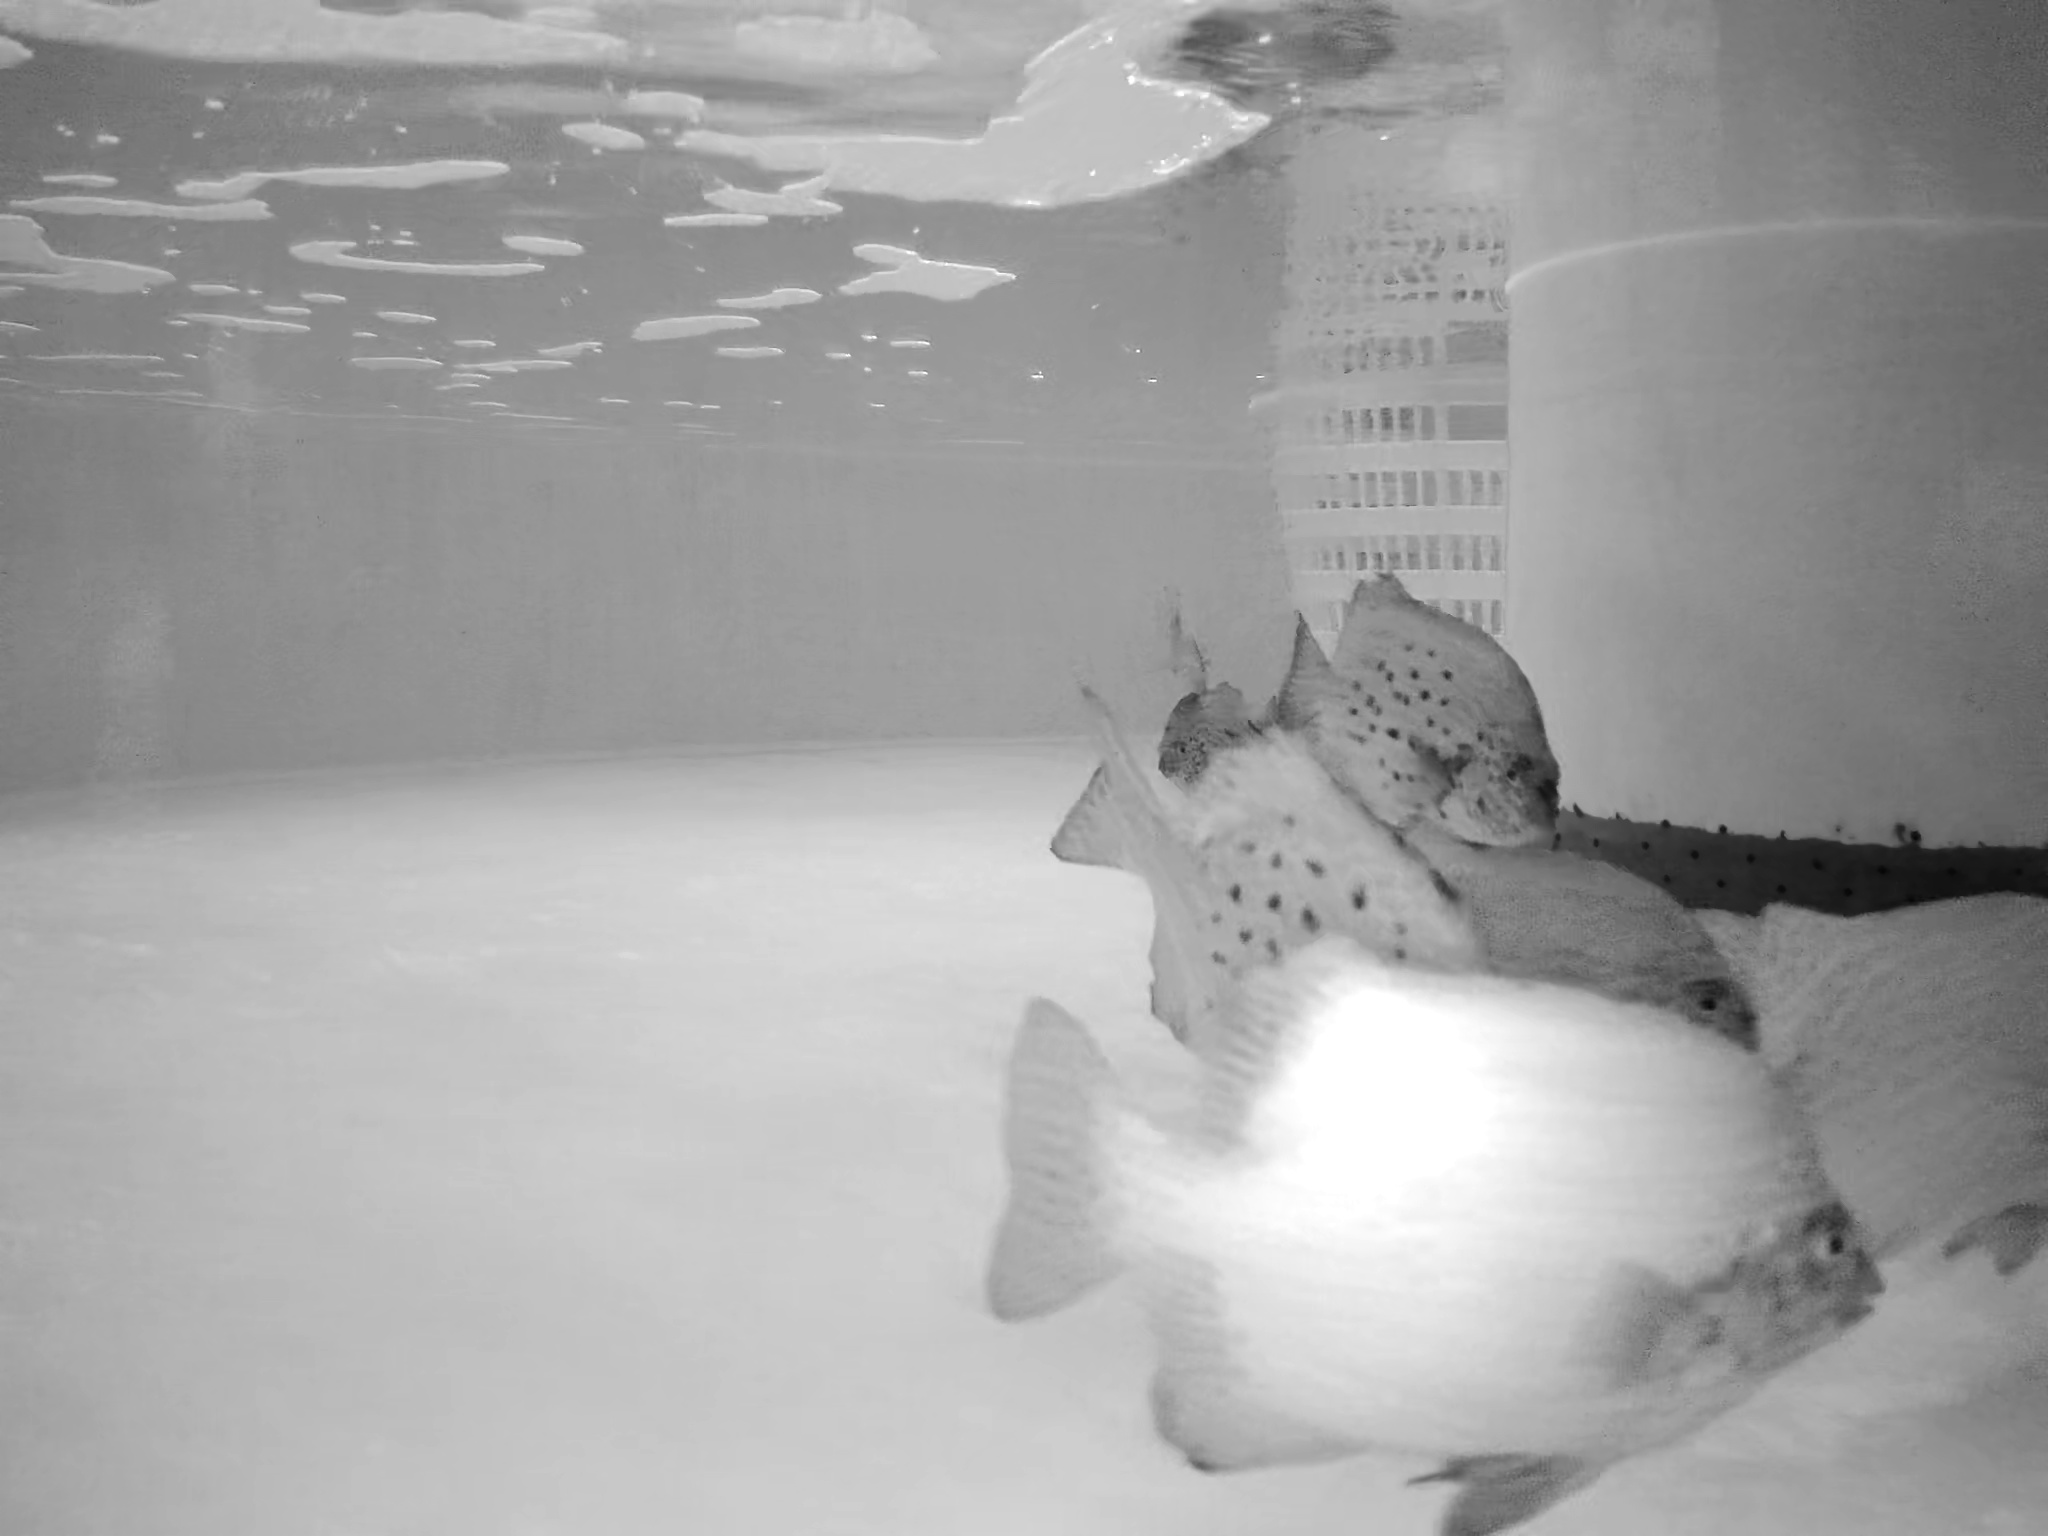fish: (971, 926, 1869, 1526), (1635, 897, 2048, 1281), (1043, 686, 1455, 1046), (1397, 831, 1755, 1084), (1279, 573, 1569, 850), (1158, 624, 1340, 794)
